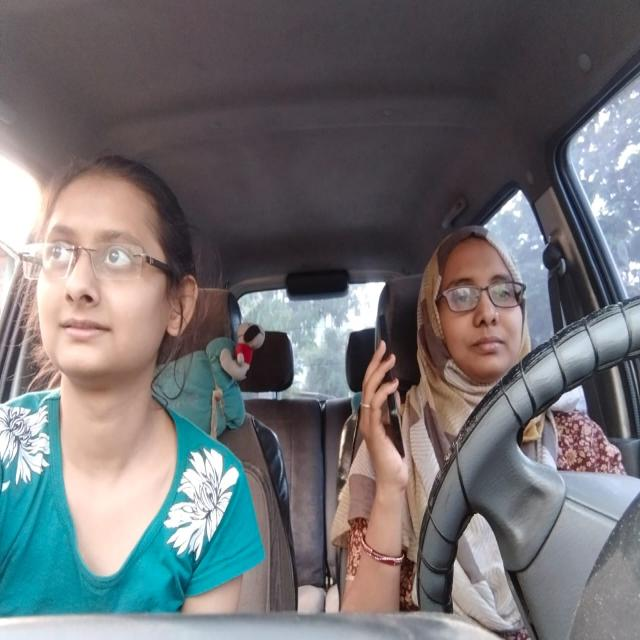mobile: (368, 328, 417, 464)
person: (30, 155, 195, 373), (425, 228, 528, 376)
